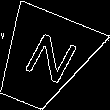N_SW: (10, 29, 76, 91)
